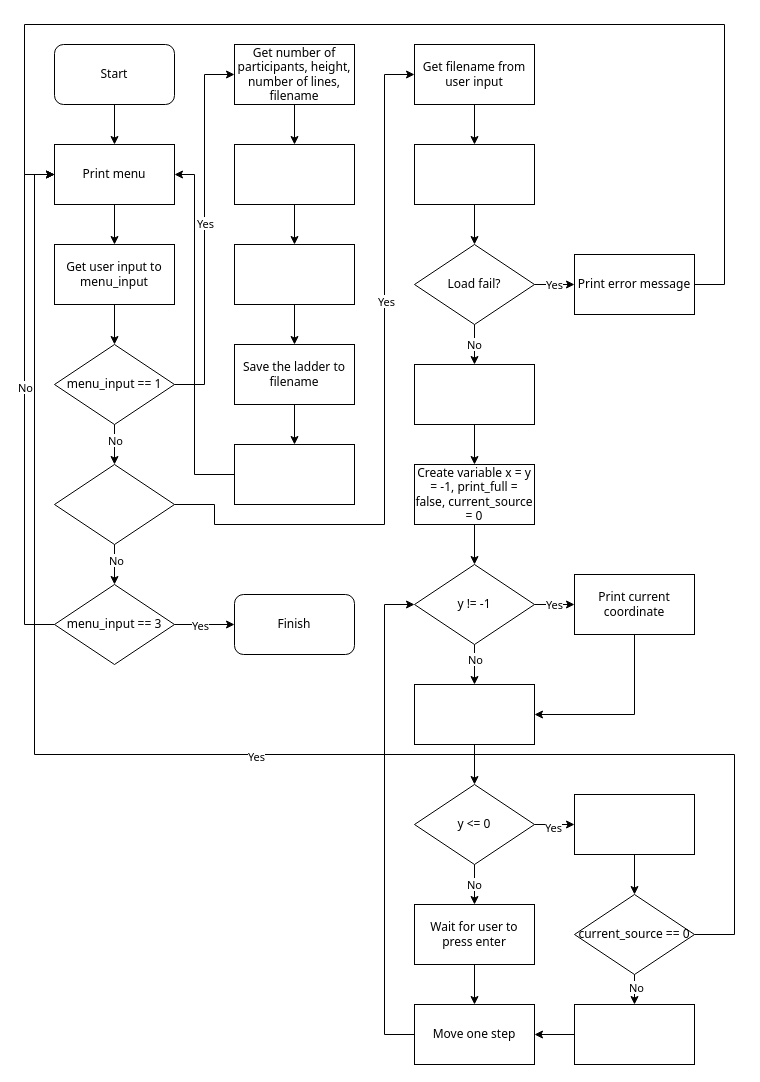
Image size: 760x1082. Some labels were removed from this diagram. The centre of each missing label's shape, as x and y in pixels:
Allocate space for ladder info: the point at 294,174
Allocate space for visited_map: the point at 474,394
Create ladder according to user input: the point at 294,274
Deallocate space for ladder info: the point at 294,474
Get current_source from user input: the point at 634,824
Load ladder from file: the point at 474,174
menu_input == 2: the point at 114,504
Print ladder with colors: the point at 474,714
Process input: the point at 634,1034
